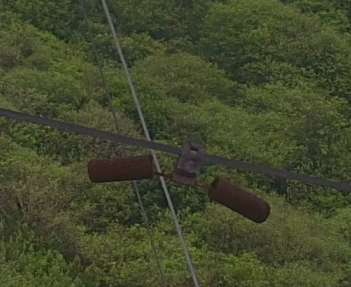damper: (85, 136, 273, 225)
